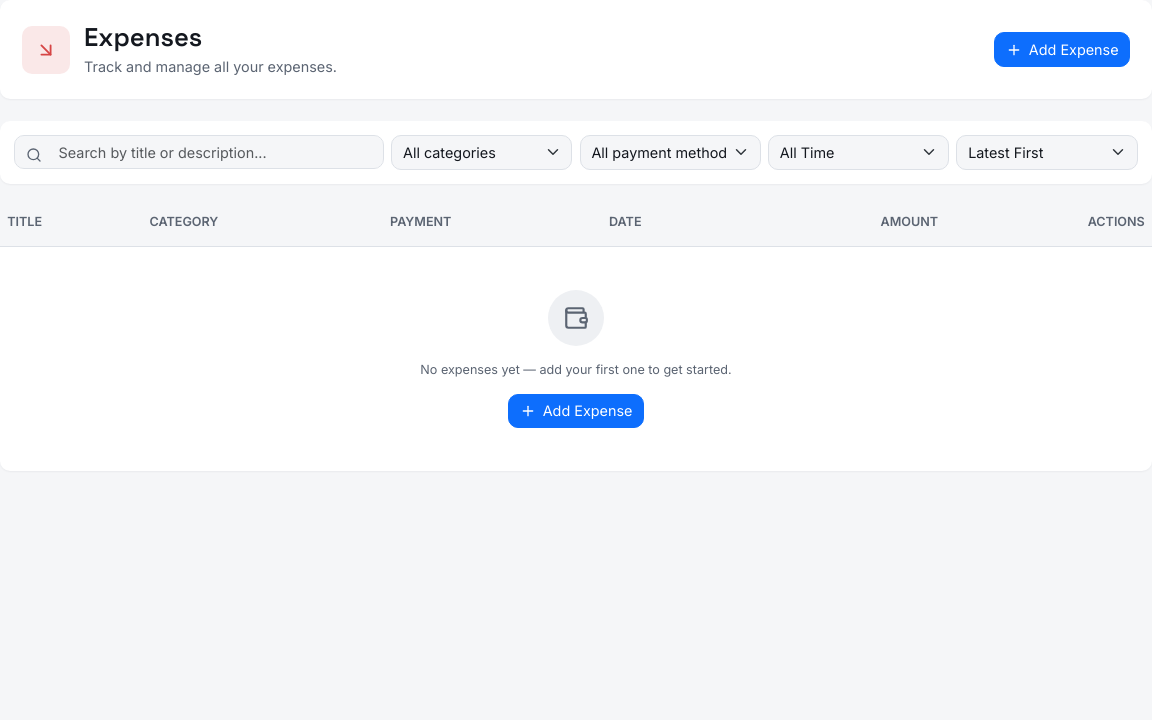
Test: Expenses page — budget threshold toasts › shows no budget warning for an ordinary expense that keeps the budget below 80%
Click the button "Add Expense" in the row of "Track and manage all your expenses." at (1062, 50), box [994,32,1130,67]
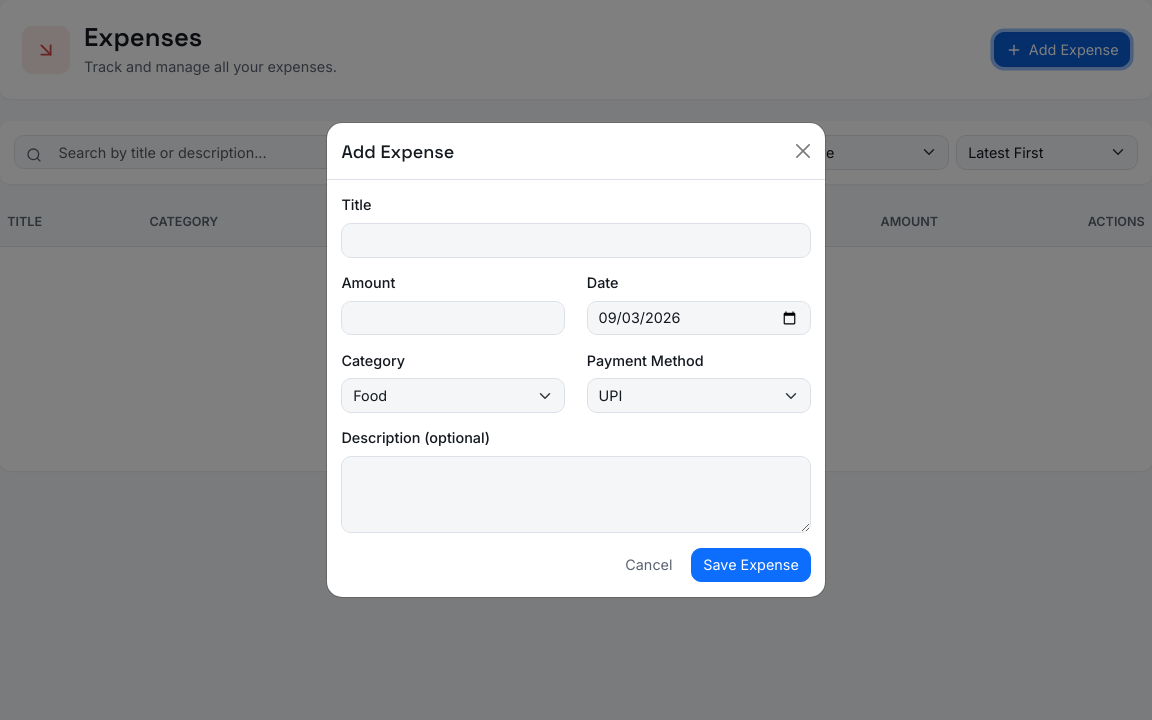
Type "Groceries" into the field labelled "Title" at (576, 240), box [341,223,811,258]
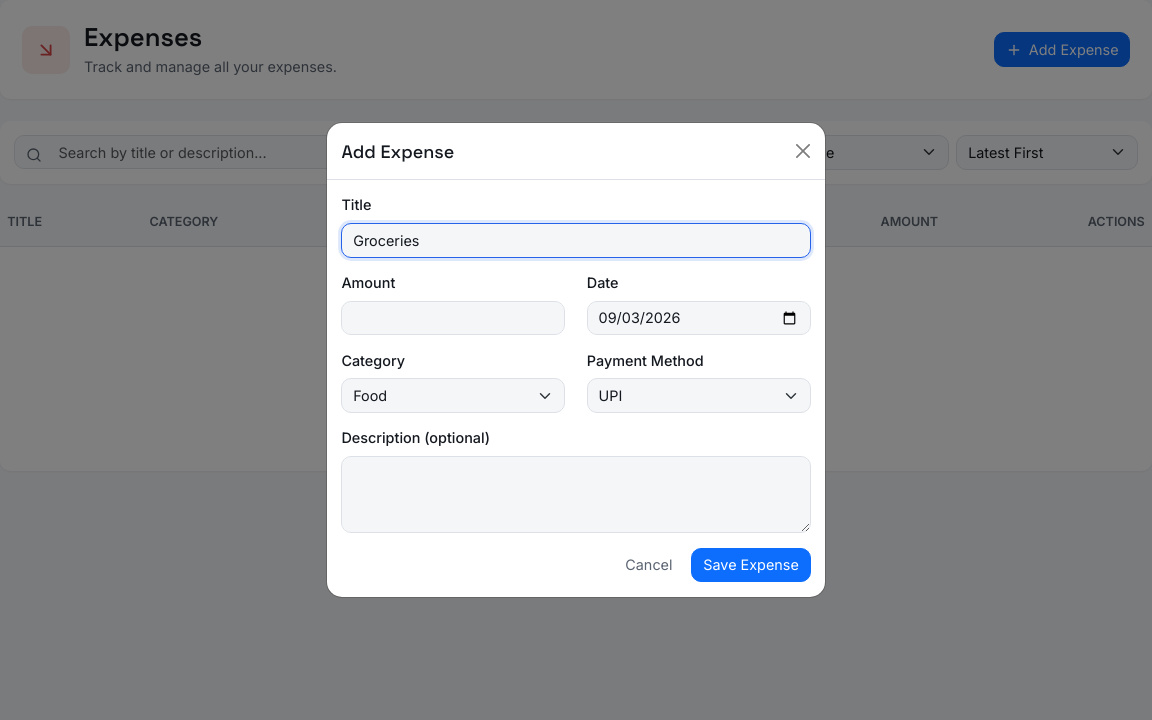
Type "500" into the number field labelled "Amount" at (453, 318), box [341,301,565,335]
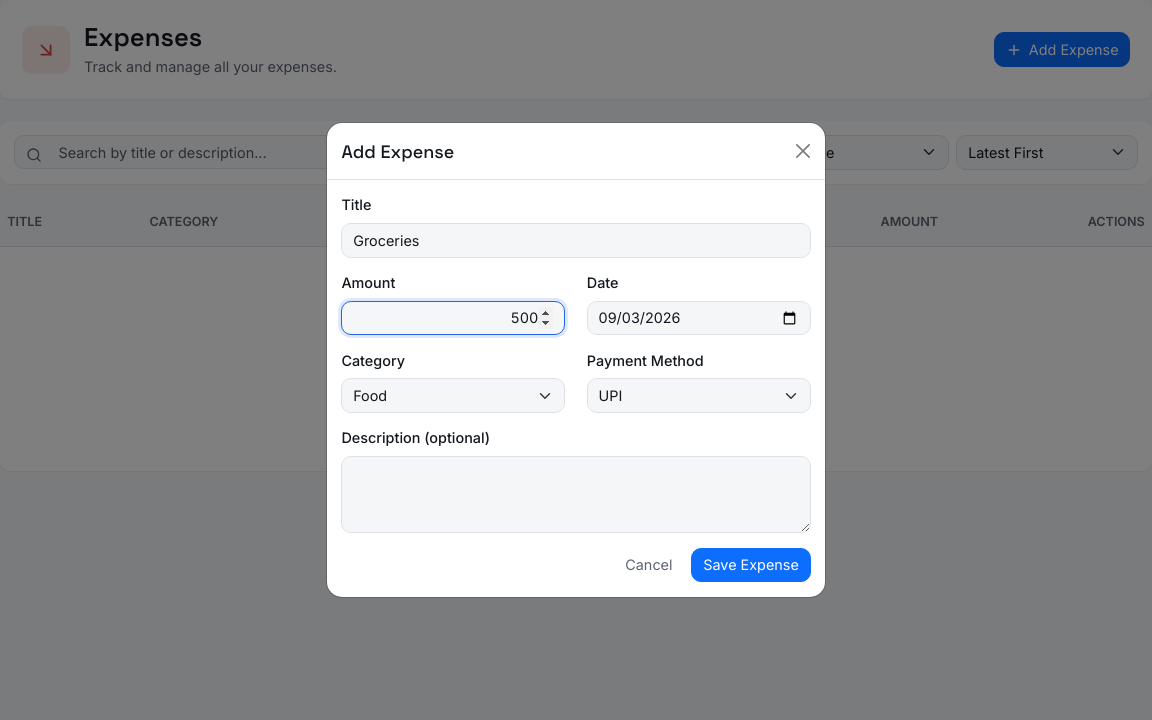
Click the button "Save Expense" at (751, 565), box [692,548,811,582]
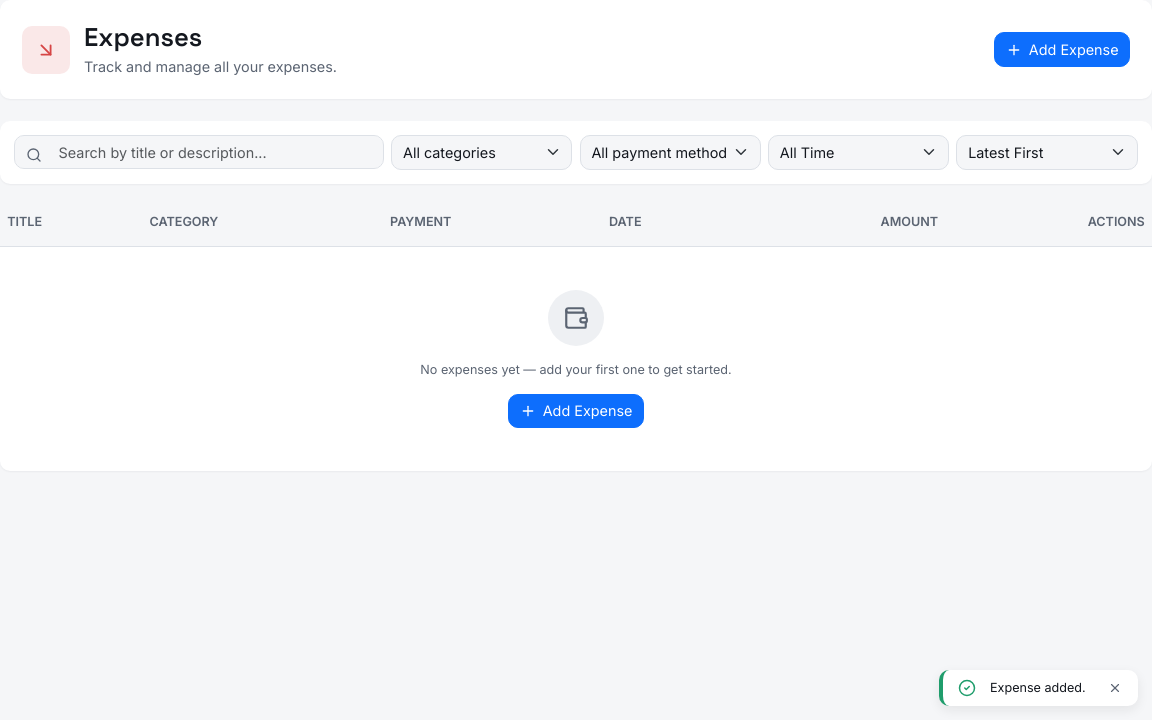
Result: the text "Expense added." is shown at [990,678,1086,697]
